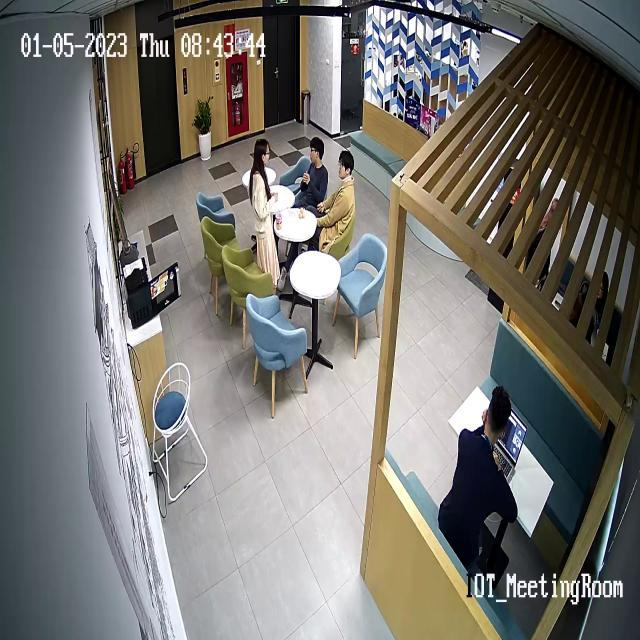person: (438, 386, 519, 598), (249, 138, 280, 291), (316, 147, 356, 257), (297, 136, 329, 209)
